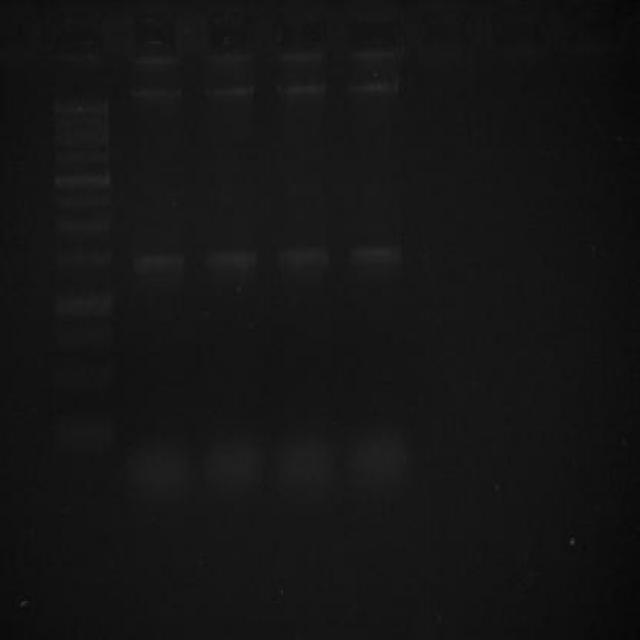B: (345, 242, 407, 273), (128, 247, 187, 278), (272, 242, 331, 270), (202, 244, 256, 274)
L: (42, 0, 406, 71)
M: (42, 78, 122, 494)
P: (48, 419, 116, 481), (48, 354, 116, 396), (49, 288, 114, 322), (50, 243, 113, 274), (48, 214, 112, 234), (50, 169, 112, 189), (50, 146, 110, 166), (54, 96, 110, 115), (52, 130, 112, 147), (52, 116, 110, 130)
Pc: (200, 17, 254, 68), (49, 24, 111, 67), (128, 20, 182, 66), (272, 23, 326, 66), (348, 23, 400, 66)
